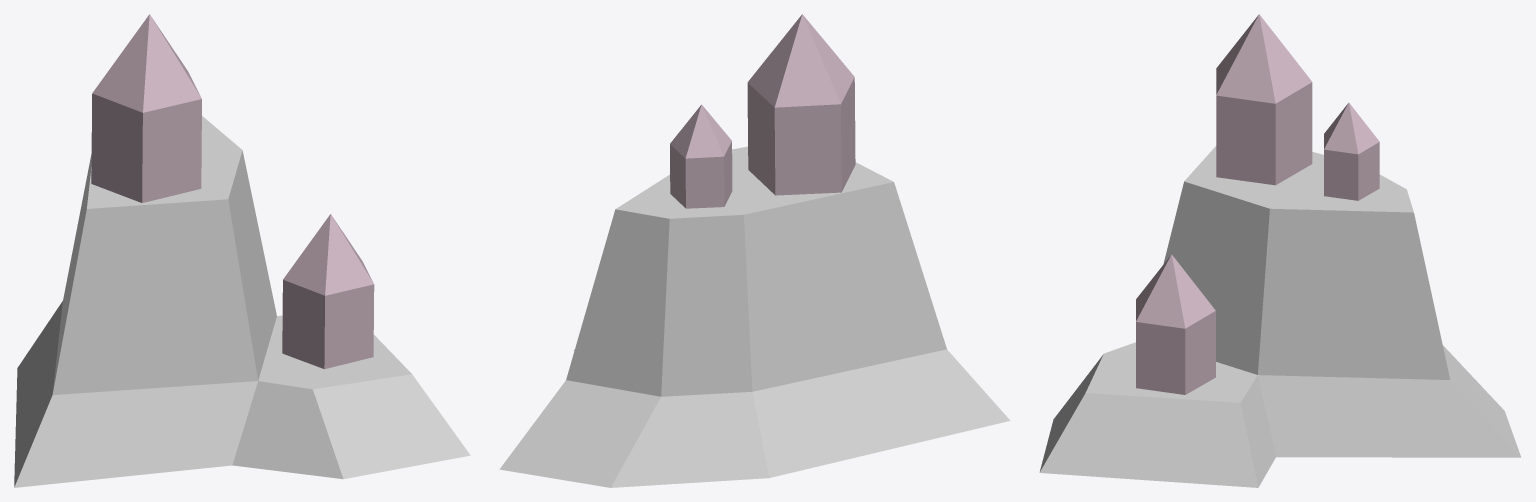
The model's file is Cuarzo_Tipo3.fbx.
3 renders of one model, left to right at view 1: azimuth 30°, elevation 25°; view 2: azimuth 150°, elevation 25°; view 3: azimuth 270°, elevation 25°, orthographic. The views are drawn at different scales.
Parts seen in each view (by area): view 1: base.027, cuarzo.012, cuarzo.014; view 2: base.027, cuarzo.012, cuarzo.013; view 3: base.027, cuarzo.012, cuarzo.014, cuarzo.013.
Part boxes in pixels (left/top/right/bottom): base.027: left=14, top=116, right=470, bottom=487; cuarzo.012: left=91, top=14, right=201, bottom=202; cuarzo.014: left=282, top=214, right=374, bottom=369; base.027: left=499, top=146, right=1010, bottom=487; cuarzo.012: left=747, top=14, right=855, bottom=195; cuarzo.013: left=670, top=104, right=732, bottom=208; base.027: left=1039, top=146, right=1521, bottom=487; cuarzo.012: left=1216, top=14, right=1312, bottom=185; cuarzo.014: left=1136, top=254, right=1215, bottom=394; cuarzo.013: left=1324, top=102, right=1379, bottom=200.
Size of the model in its own units: 75.27 by 70.79 by 83.81.
